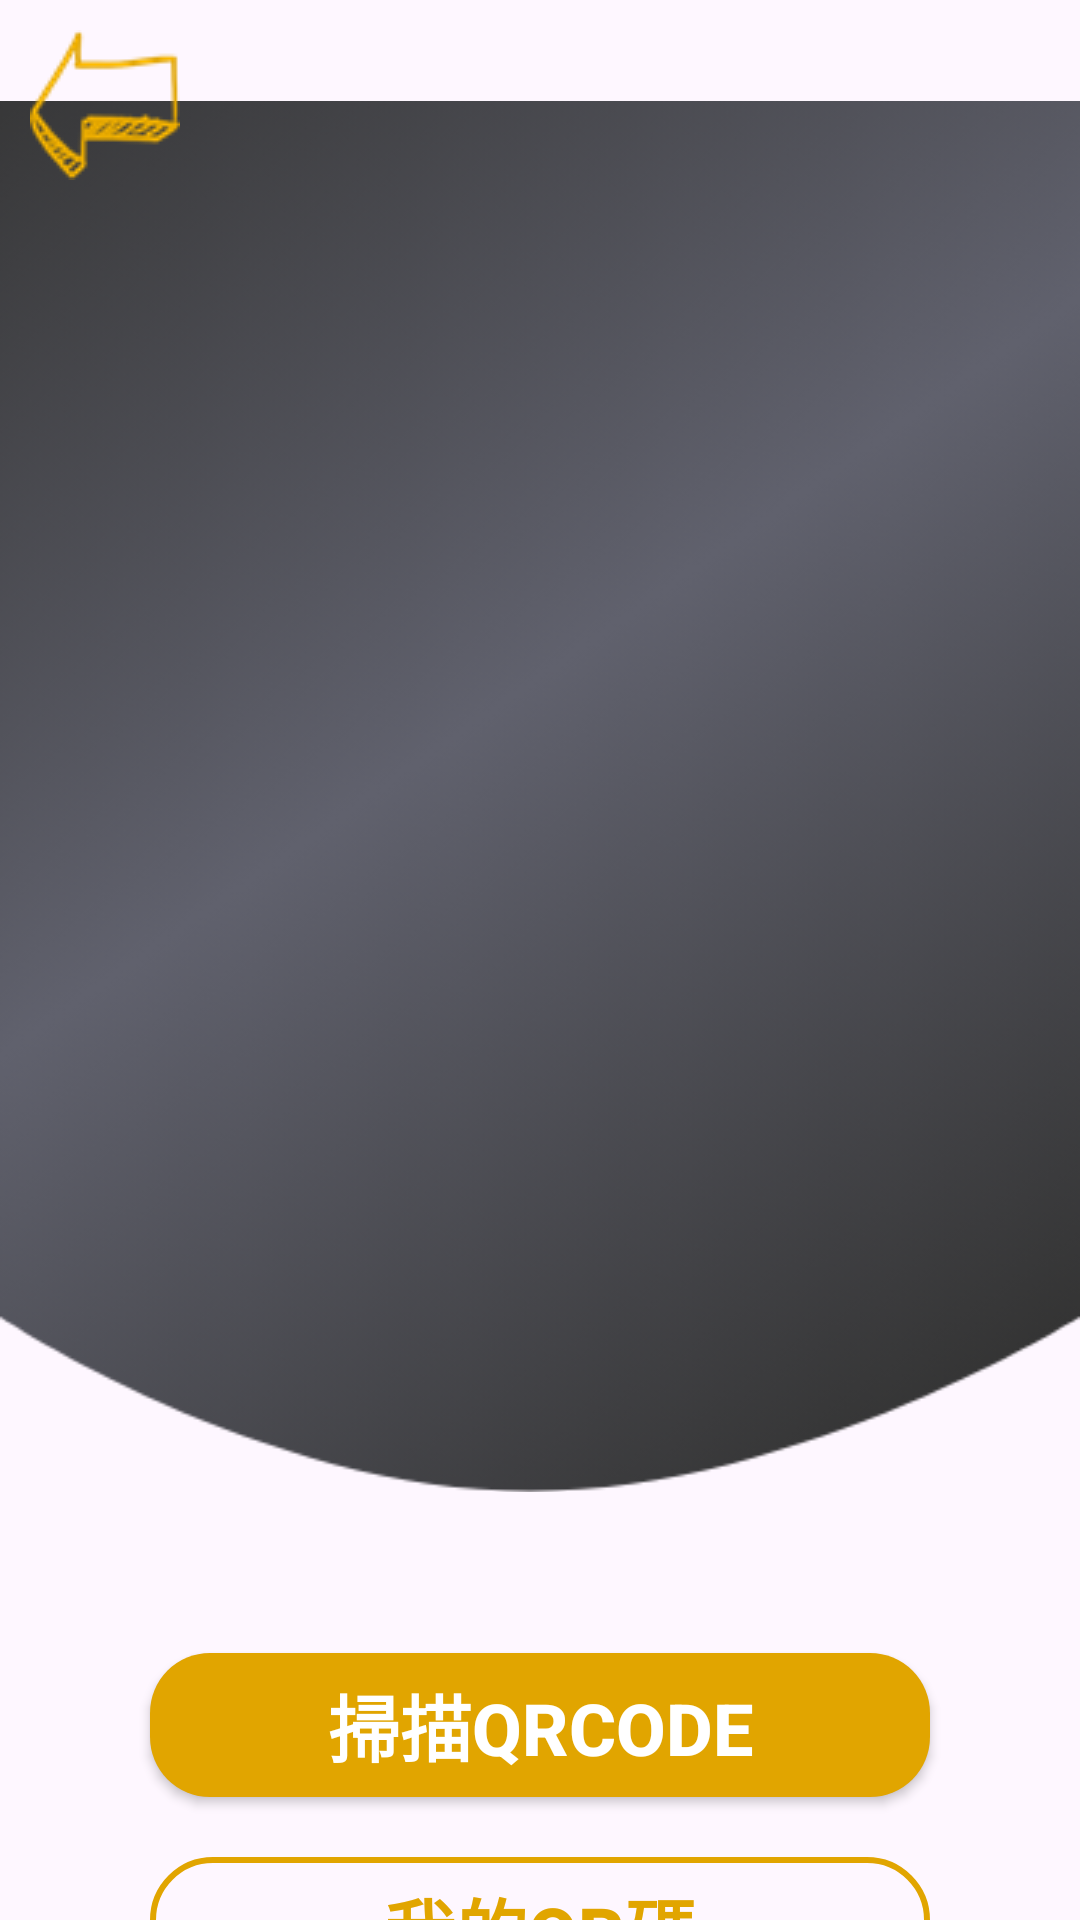

Point at icon controls on the screen. Image size 1080*1920, points as (x,y).
back: (105,105)
